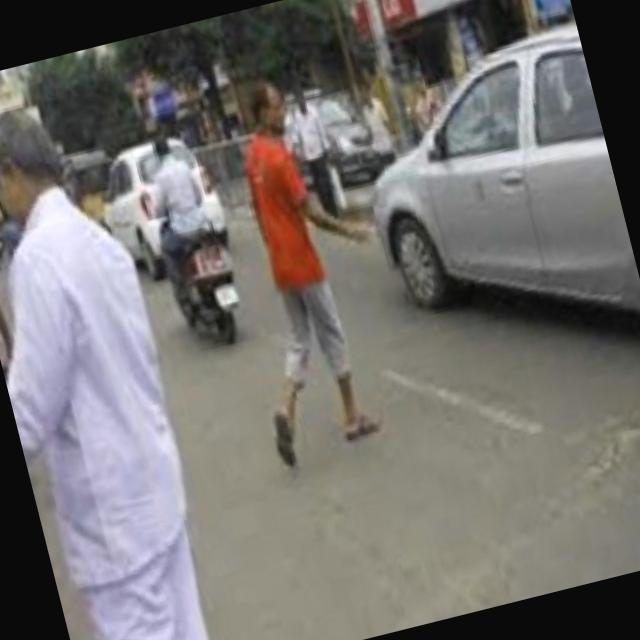Person: (0, 81, 237, 640), (182, 62, 417, 476)
